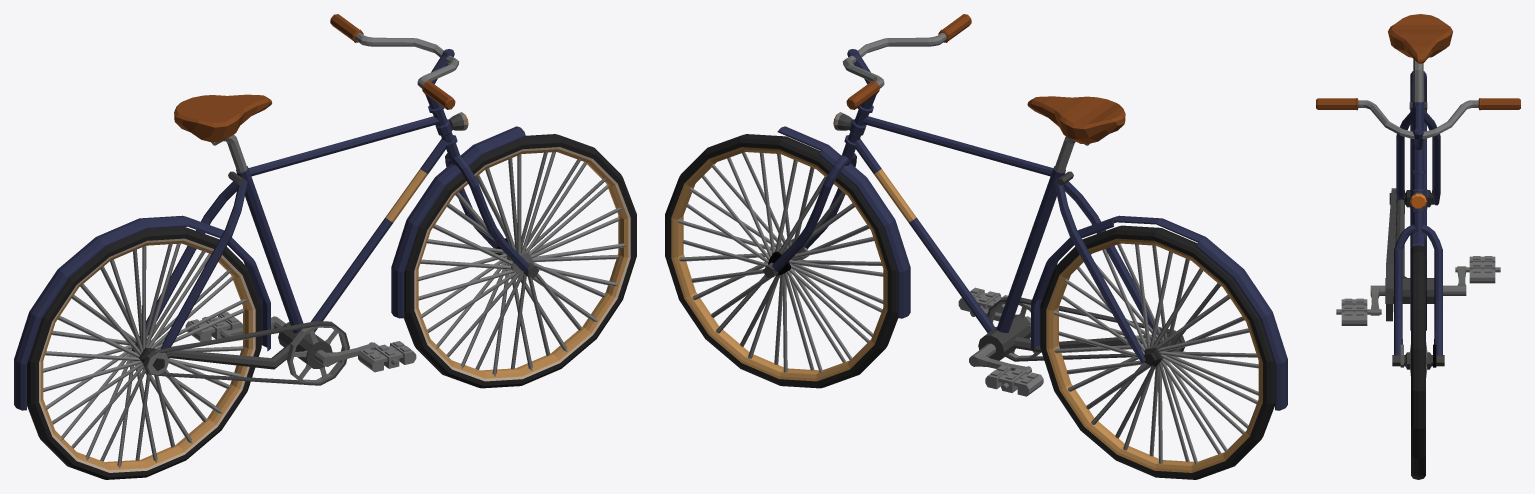
File: SM_Bicycle_02.gltf
The picture shows the model from 3 angles, left to right: view 1: azimuth 30°, elevation 25°; view 2: azimuth 150°, elevation 25°; view 3: azimuth 270°, elevation 25°; orthographic projection. The views are drawn at different scales.
Parts seen in each view (by area): view 1: SM_Bicycle_02; view 2: SM_Bicycle_02; view 3: SM_Bicycle_02.
Part boxes in pixels (x1,y1,x2,y2): SM_Bicycle_02: (14, 14, 636, 479); SM_Bicycle_02: (665, 14, 1287, 479); SM_Bicycle_02: (1316, 14, 1520, 479).
Bounding box in the file's own units: 2.14 × 1.19 × 0.698.
1 material, 1 textured.
